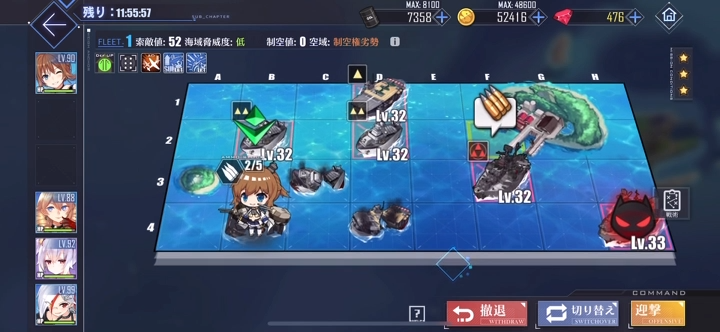boss: (594, 192, 670, 251)
lv1: (347, 62, 409, 111)
lv2: (348, 100, 406, 159)
lv3: (470, 143, 534, 198)
